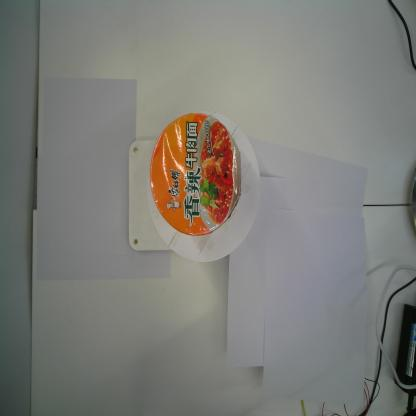Instant Noodles: (150, 112, 242, 238)
